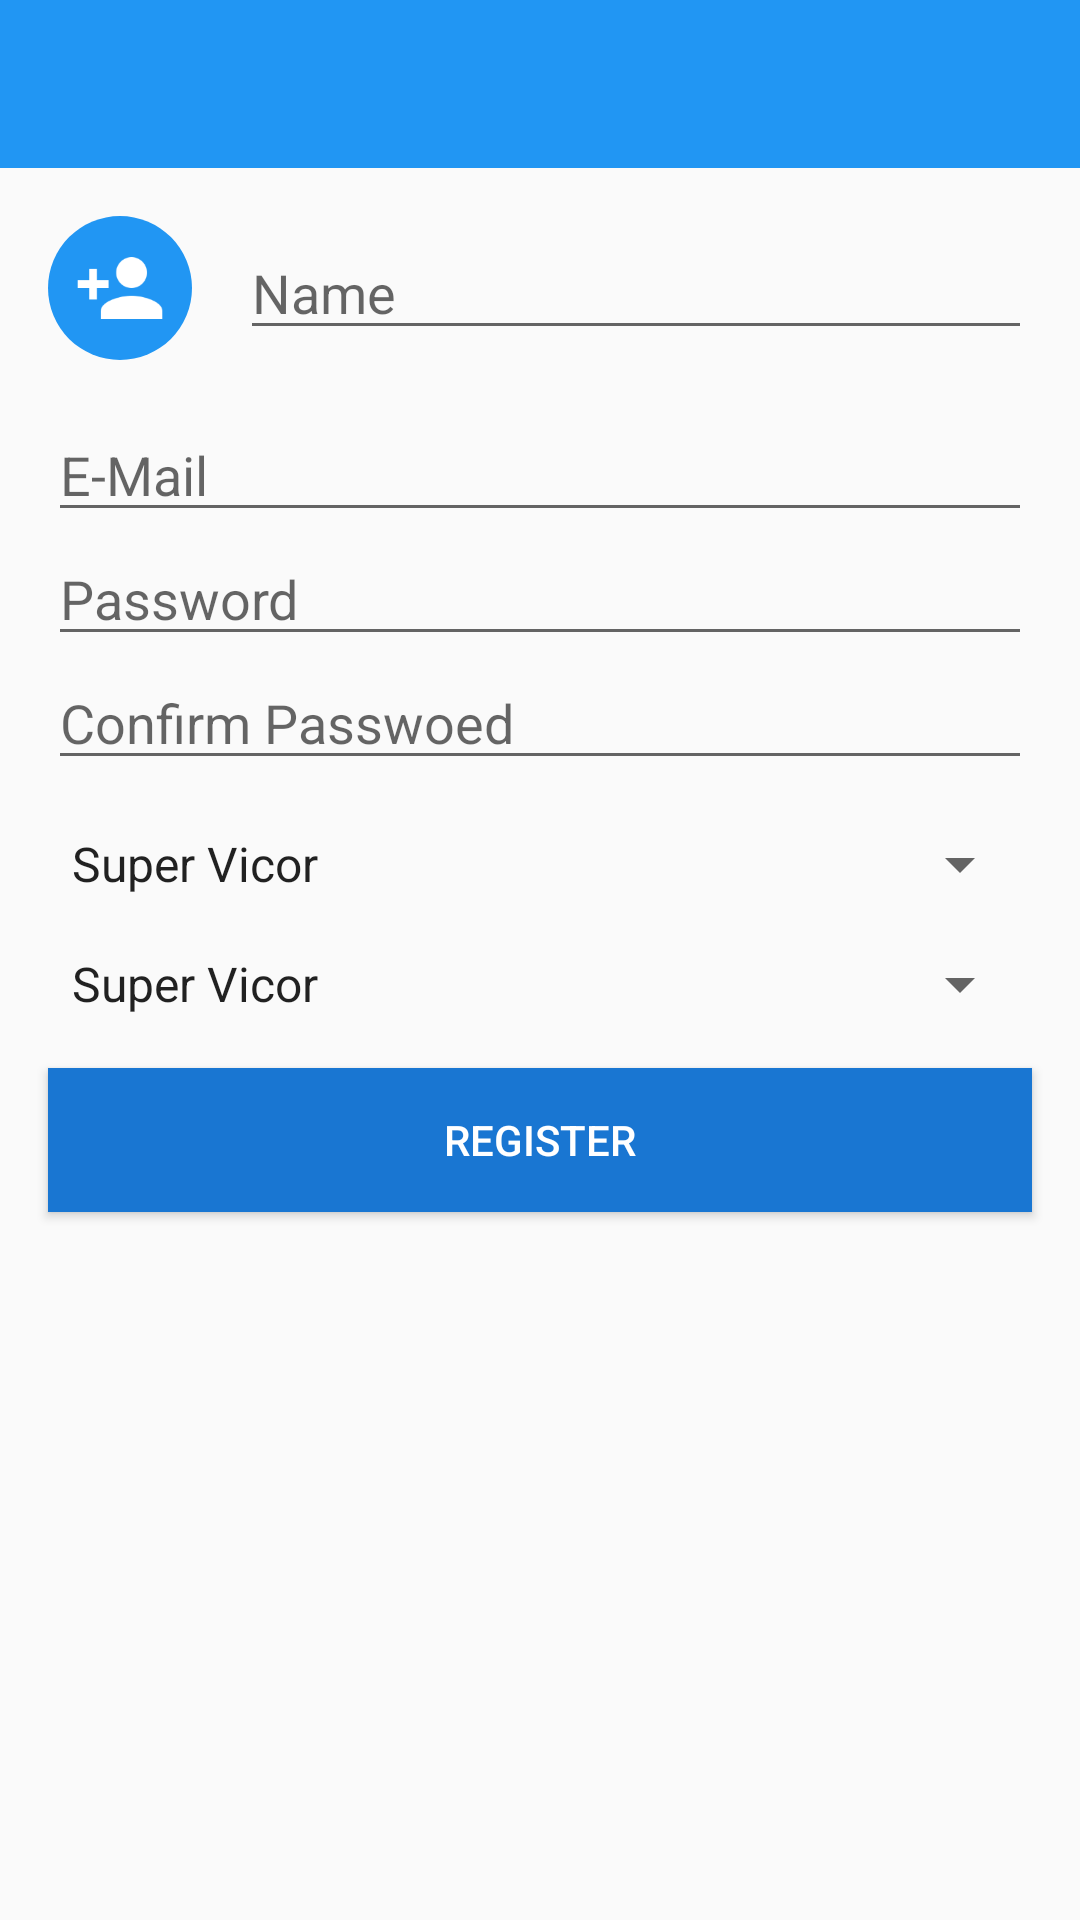

Locate icon controls on the screen. Image size 1080×1920, boxes as (x1, y1, x2, y2).
circle pic profile: (48, 216, 192, 360)
